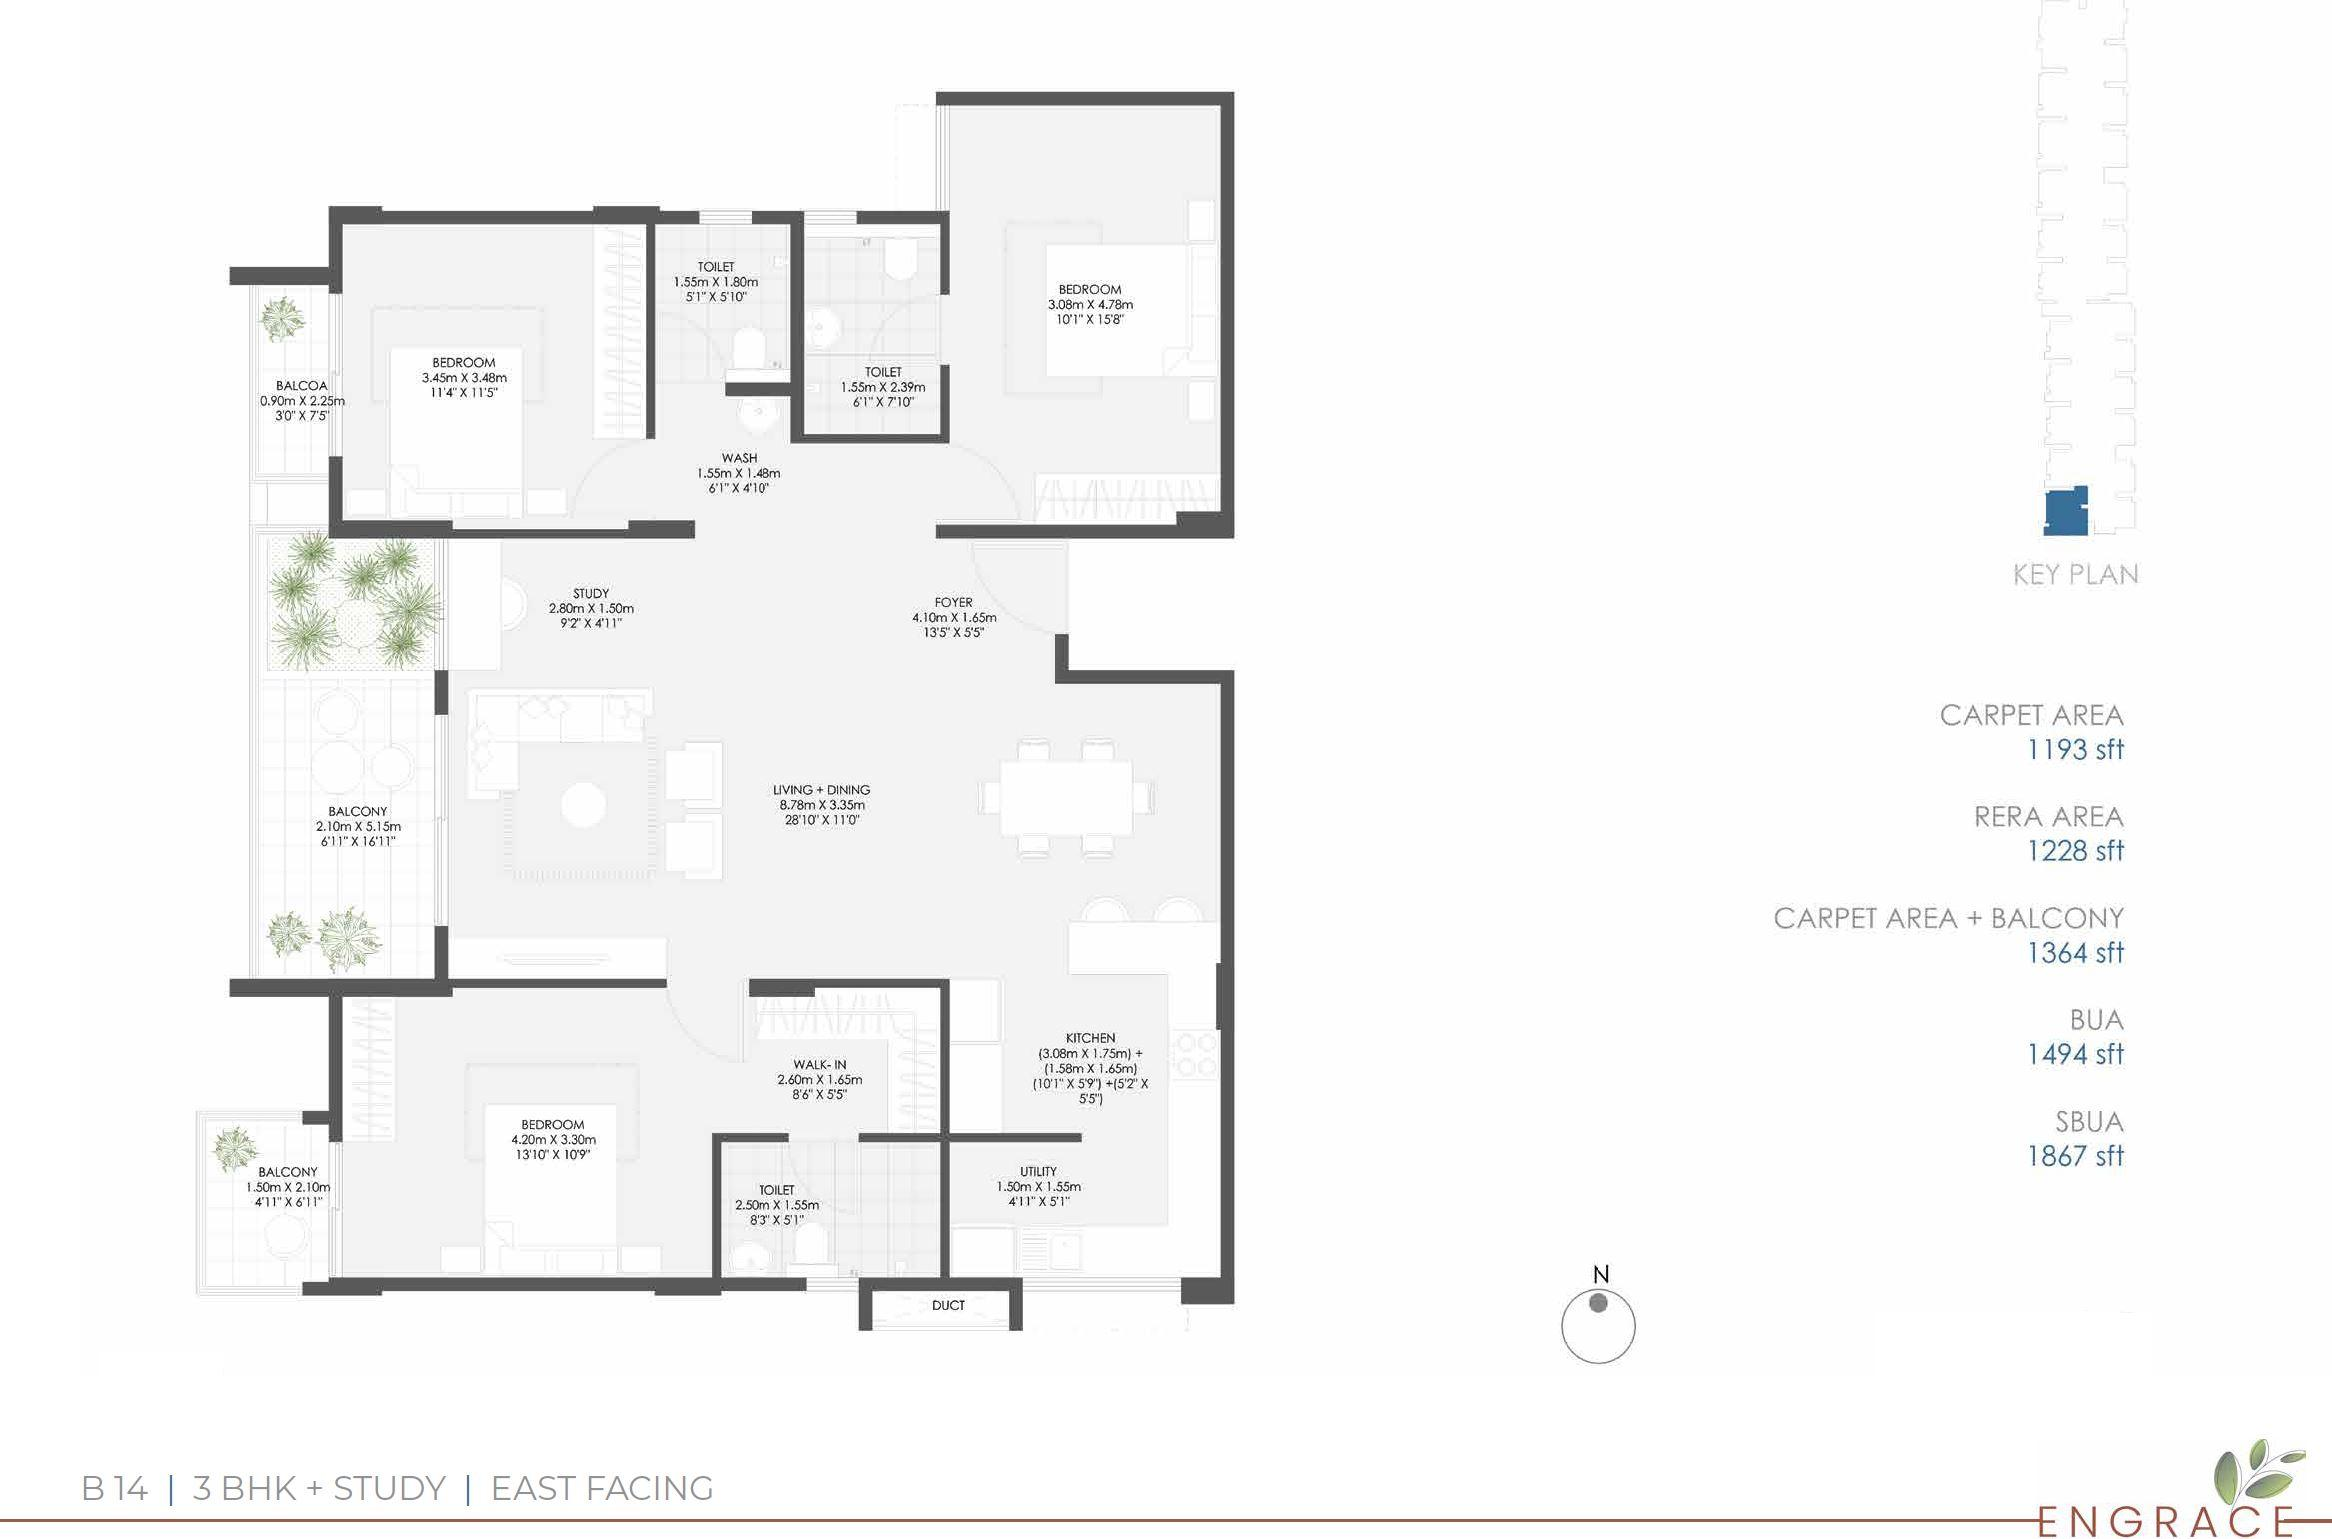Balcony: (258, 532, 436, 981), (203, 1118, 330, 1287)
Bed: (386, 350, 522, 520), (483, 1104, 616, 1274), (1049, 242, 1219, 376)
Bedroom: (333, 989, 721, 1285), (953, 105, 1223, 522), (345, 223, 647, 522)
Dining Room: (804, 670, 1228, 931)
Dining table: (965, 730, 1180, 864)
Foyer: (776, 536, 1077, 646)
Kitchen: (946, 933, 1219, 1135)
Living Room: (445, 666, 824, 974)
Sofa: (467, 692, 651, 744), (467, 690, 519, 804), (668, 816, 723, 886), (670, 742, 725, 811)
Wardrobe: (592, 223, 649, 436), (752, 988, 943, 1043), (1035, 472, 1224, 522), (886, 993, 941, 1132), (340, 995, 392, 1139)
balcoa: (258, 278, 333, 476)
commode: (792, 1218, 833, 1264), (884, 237, 920, 283), (730, 328, 769, 368)
door: (969, 543, 1070, 632), (665, 974, 754, 1067), (563, 438, 654, 524), (786, 1130, 864, 1218), (939, 445, 1020, 520), (865, 290, 950, 359), (654, 301, 725, 381), (428, 708, 452, 938), (325, 290, 350, 465), (326, 1141, 350, 1288)
duct: (872, 1293, 1015, 1324)
fridge: (950, 982, 1006, 1043)
kitchen-slab: (1171, 926, 1223, 1278), (1020, 1225, 1223, 1278), (1070, 926, 1219, 974), (948, 1043, 1006, 1134)
sink: (1015, 1223, 1085, 1278), (804, 301, 848, 354), (733, 395, 785, 436), (728, 1235, 773, 1278)
stove: (1166, 1032, 1223, 1087)
study: (443, 541, 689, 675)
toilet: (718, 1139, 943, 1283), (802, 222, 946, 440), (653, 216, 795, 386)
tv: (489, 941, 620, 976)
utility: (944, 1141, 1230, 1285)
wash: (654, 381, 799, 529)
washing-machine: (950, 1230, 1013, 1280)
